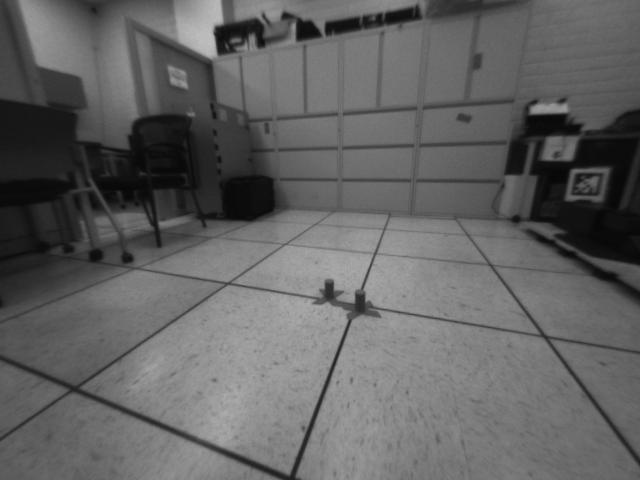X: (340, 287, 383, 322), (313, 276, 345, 310)
